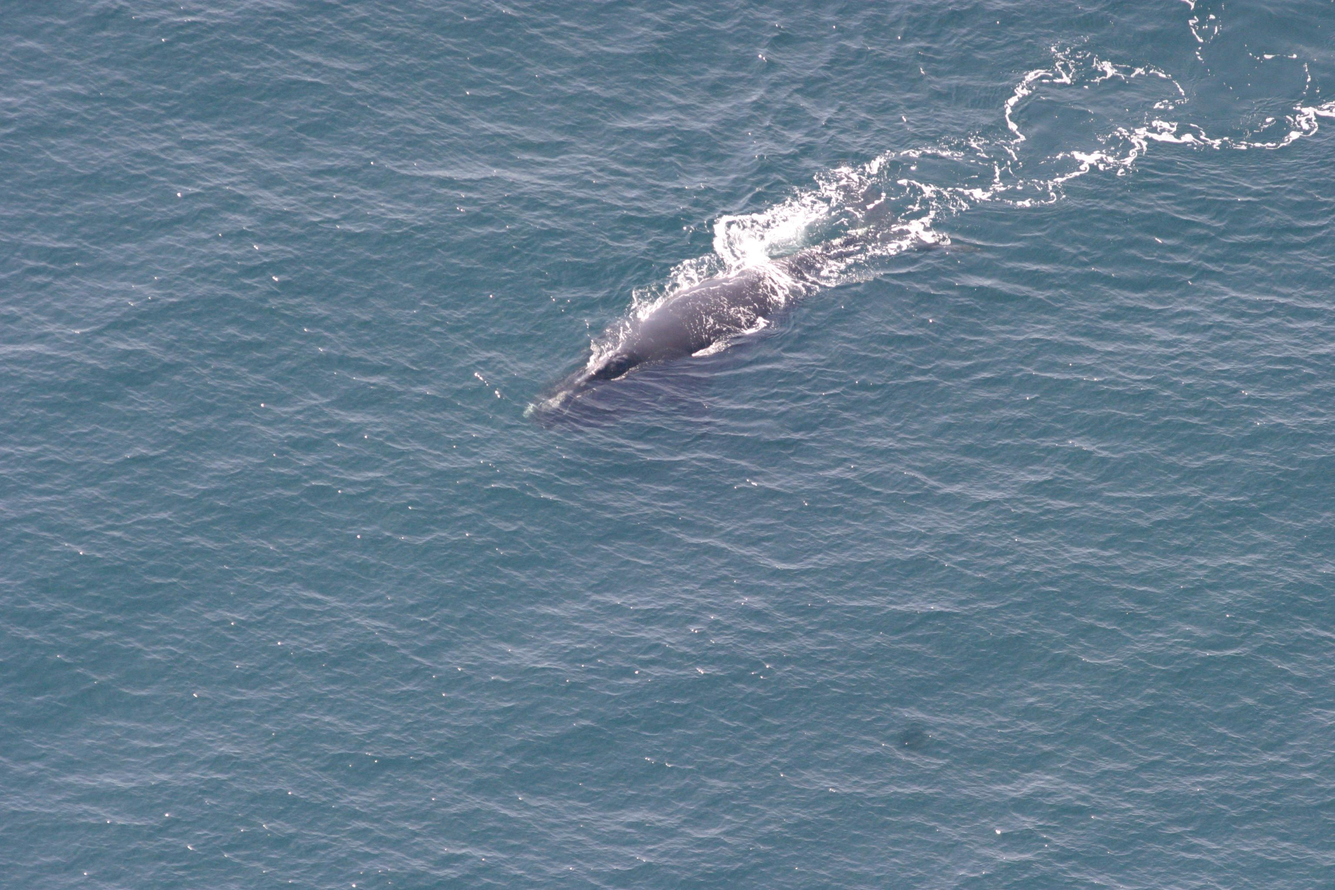whale: (511, 149, 1004, 435)
